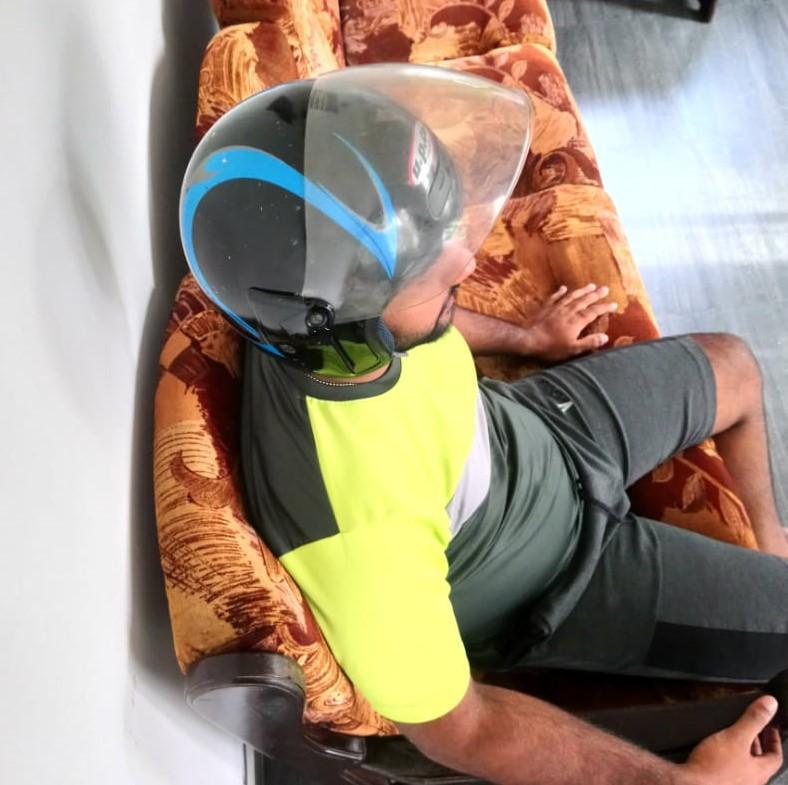helmet: (178, 60, 536, 379)
